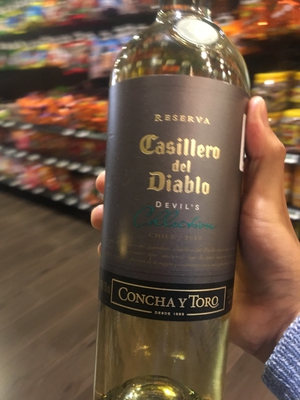casillero del diablo devils collection verde: (91, 7, 258, 400)
